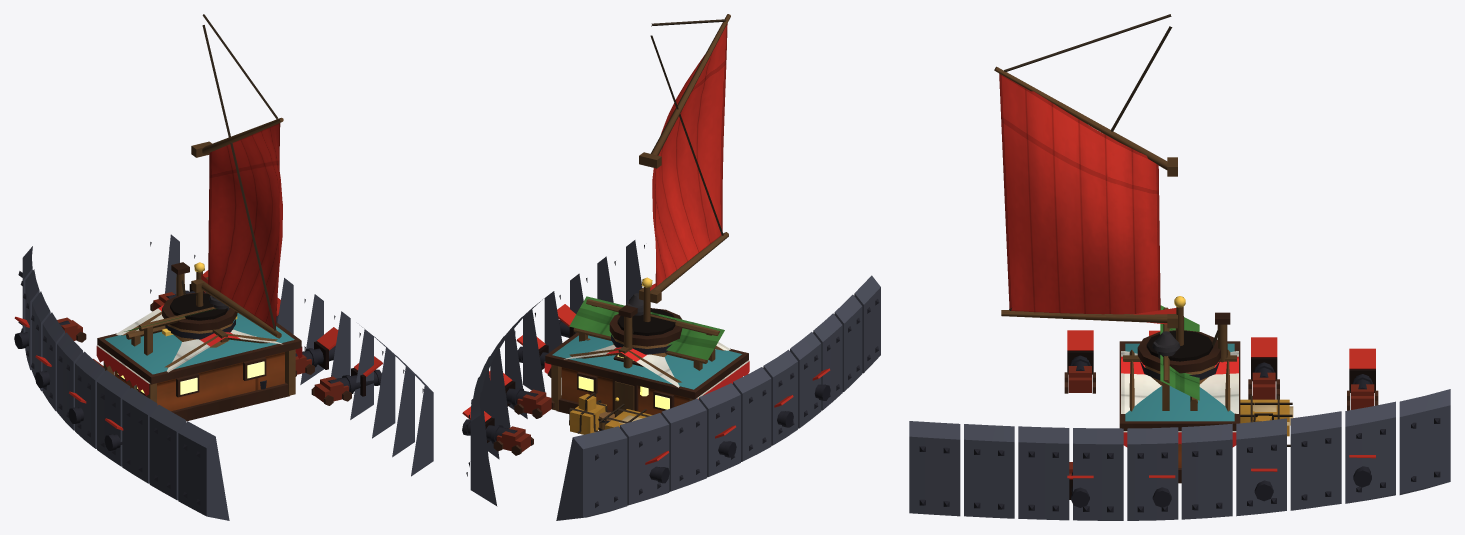
File: modules_brigantine.glb
The picture shows the model from 3 angles, left to right: view 1: azimuth 30°, elevation 25°; view 2: azimuth 150°, elevation 25°; view 3: azimuth 270°, elevation 25°; orthographic projection. The views are drawn at different scales.
Visible parts, largest first — view 1: Plating, GaffSail, Quarters, GunDeck, Infirmary, Rigging, CrowsNest, Workshop; view 2: Plating, GaffSail, Quarters, GunDeck, Workshop, Rigging, CrowsNest, CargoHold, Infirmary; view 3: Plating, GaffSail, GunDeck, Quarters, Rigging, CrowsNest, Infirmary, CargoHold, Workshop.
Part boxes in pixels (x1,y1,x2,y2): Plating: (18,234,433,520); GaffSail: (208,123,282,328); Quarters: (97,313,301,421); GunDeck: (14,270,382,450); Infirmary: (96,305,302,402); Rigging: (191,14,283,338); CrowsNest: (162,262,237,347); Workshop: (124,307,237,390); Plating: (466,240,880,520); GaffSail: (652,23,727,286); Quarters: (545,332,748,417); GunDeck: (462,304,830,483); Workshop: (569,296,724,370); Rigging: (639,14,730,303); CrowsNest: (609,277,682,356); CargoHold: (569,305,652,434); Infirmary: (544,342,749,410); Plating: (909,389,1450,520); GaffSail: (999,73,1160,314); GunDeck: (1064,330,1378,507); Quarters: (1119,341,1240,483); Rigging: (994,14,1177,328); CrowsNest: (1130,296,1220,385); Infirmary: (1121,350,1238,447); CargoHold: (1212,312,1293,446); Workshop: (1160,305,1199,410).
Size of the model in its own units: 1.19 by 1.68 by 1.83.
23 materials, 10 textured.
